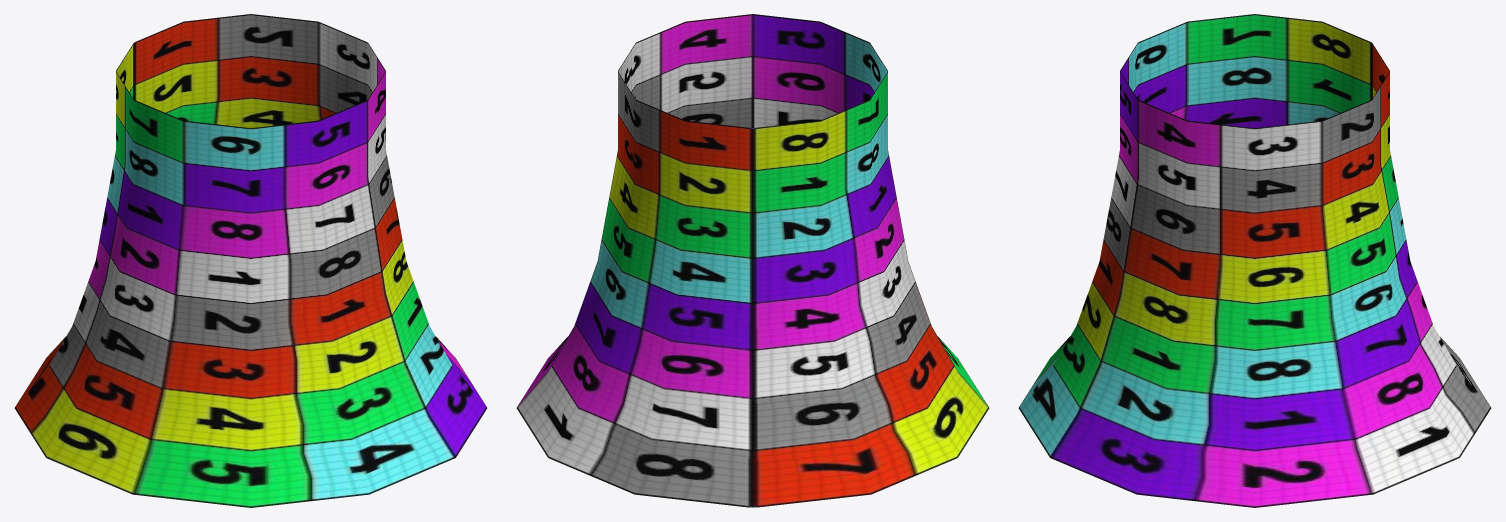
3 views of the same model, side by side, from view 1: azimuth 30°, elevation 25°; view 2: azimuth 150°, elevation 25°; view 3: azimuth 270°, elevation 25° (orthographic).
Visible parts, largest first — view 1: pipe; view 2: pipe; view 3: pipe.
Part boxes in pixels (left/top/right/bottom): pipe: left=14, top=14, right=487, bottom=507; pipe: left=516, top=14, right=989, bottom=507; pipe: left=1018, top=14, right=1491, bottom=507.
Bounding box in the file's own units: 1.08 × 0.85 × 1.08.
